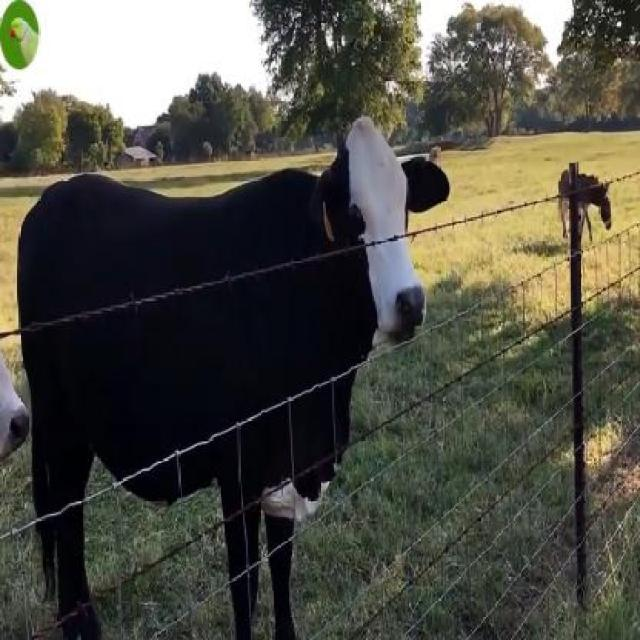Cow: (18, 112, 451, 630)
